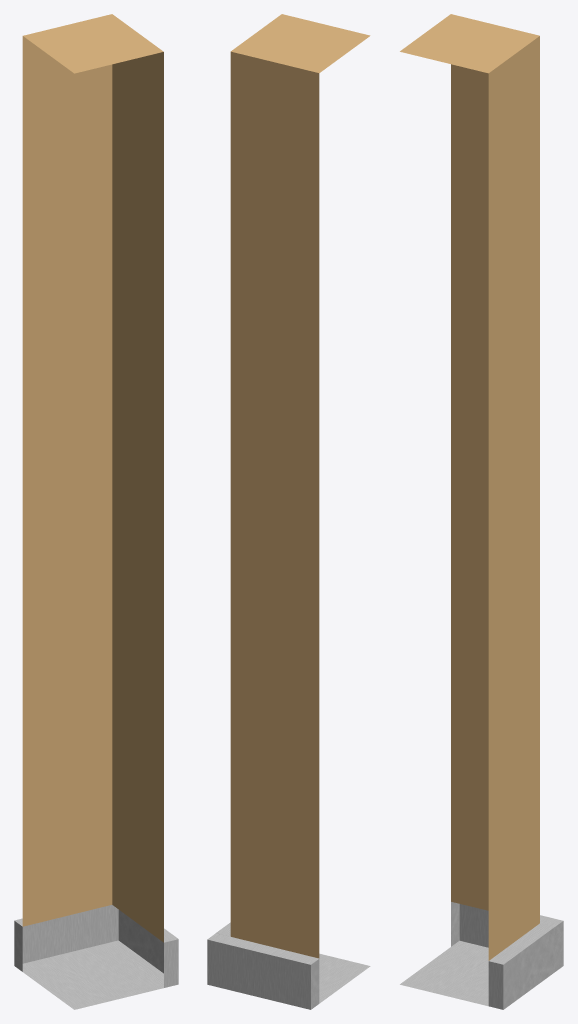
File: Wall Intersection.fbx
3 renders of one model, left to right at view 1: azimuth 30°, elevation 25°; view 2: azimuth 150°, elevation 25°; view 3: azimuth 330°, elevation 25°, orthographic.
Parts seen in each view (by area): view 1: Wall Intersection; view 2: Wall Intersection; view 3: Wall Intersection.
Boxes of the visible parts, <box> form: Wall Intersection: <box>14,14,178,1009</box>; Wall Intersection: <box>207,14,370,1009</box>; Wall Intersection: <box>400,14,563,1009</box>.
Bounding box in the file's own units: 0.7 × 6 × 0.7.
